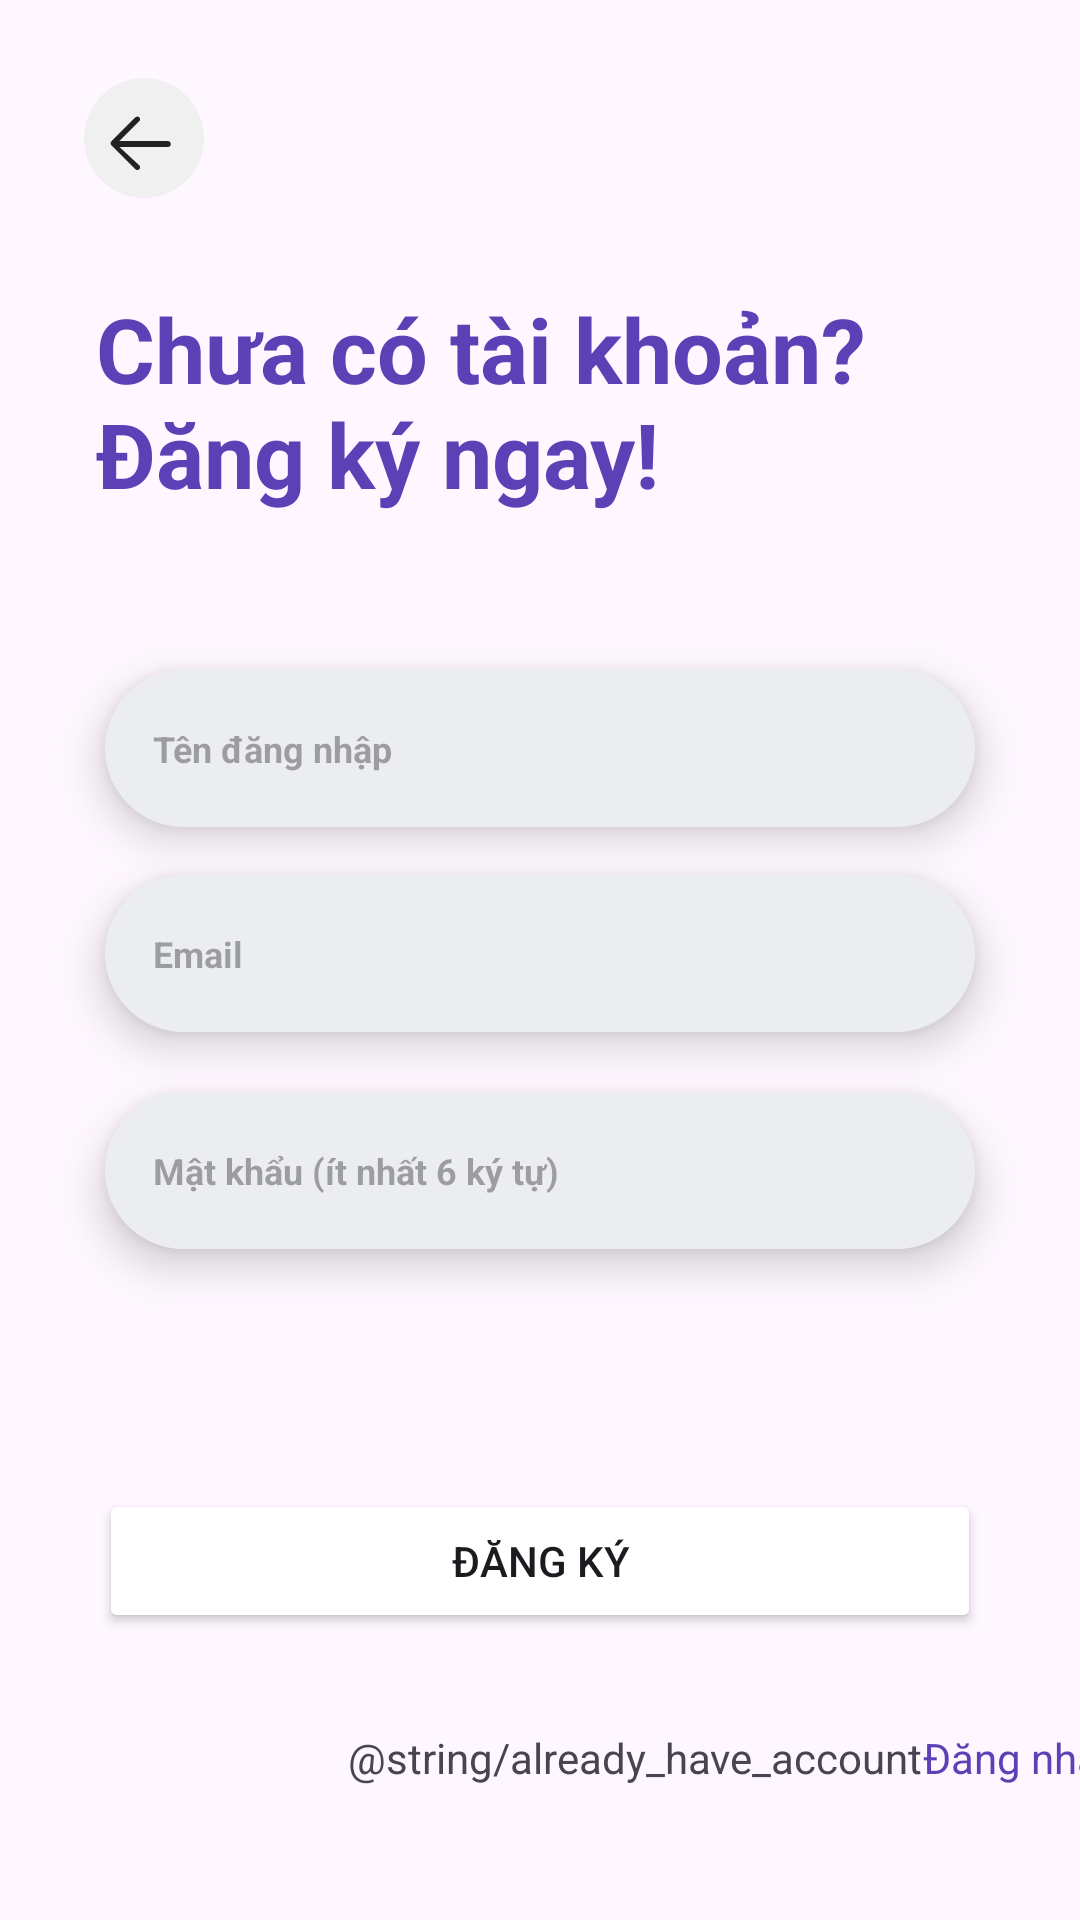

Icon bounding boxes for this 1080 x 1920 phone screenshot, format (x1, y1, x2, y2):
back: (84, 78, 204, 198)
